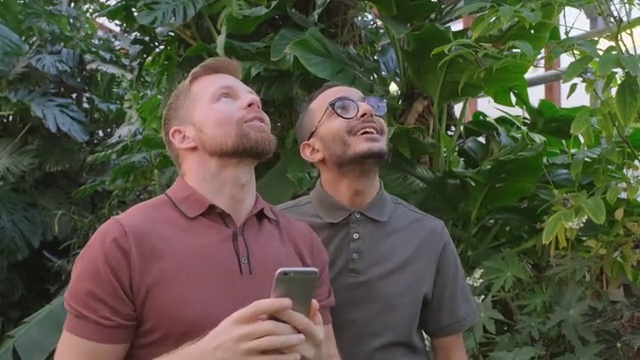phone: (270, 263, 322, 330)
